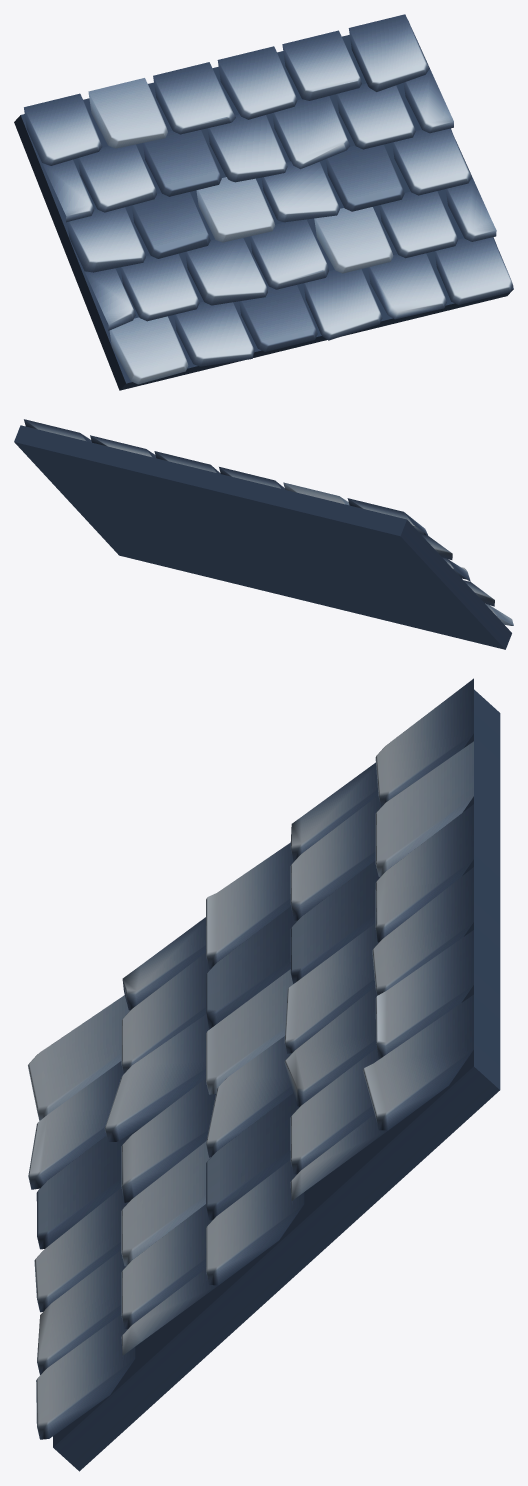
Rendered from Roof_01.fbx.
3 renders of one model, top to bottom at view 1: azimuth 30°, elevation 25°; view 2: azimuth 150°, elevation 25°; view 3: azimuth 270°, elevation 25°, orthographic. The views are drawn at different scales.
Visible parts, largest first — view 1: Roof_01; view 2: Roof_01; view 3: Roof_01.
Part boxes in pixels (bbox=[...]): Roof_01: bbox=[14, 14, 513, 390]; Roof_01: bbox=[14, 419, 513, 649]; Roof_01: bbox=[28, 678, 500, 1471].
Bounding box in the file's own units: 6 × 3.11 × 3.18.
